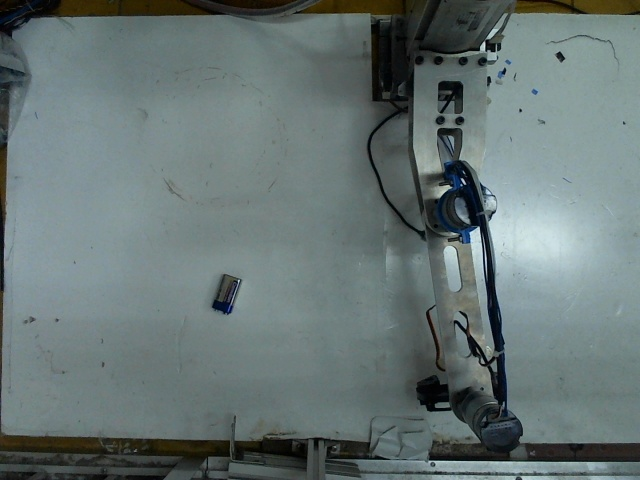battery: (213, 268, 242, 313)
